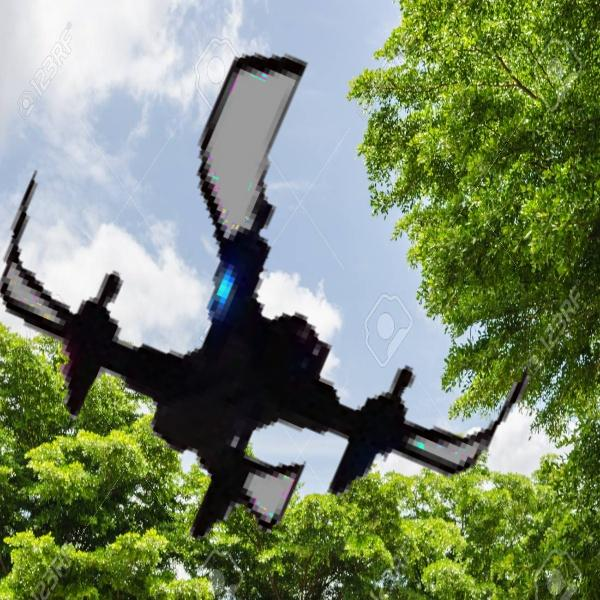drone: (2, 26, 559, 583)
